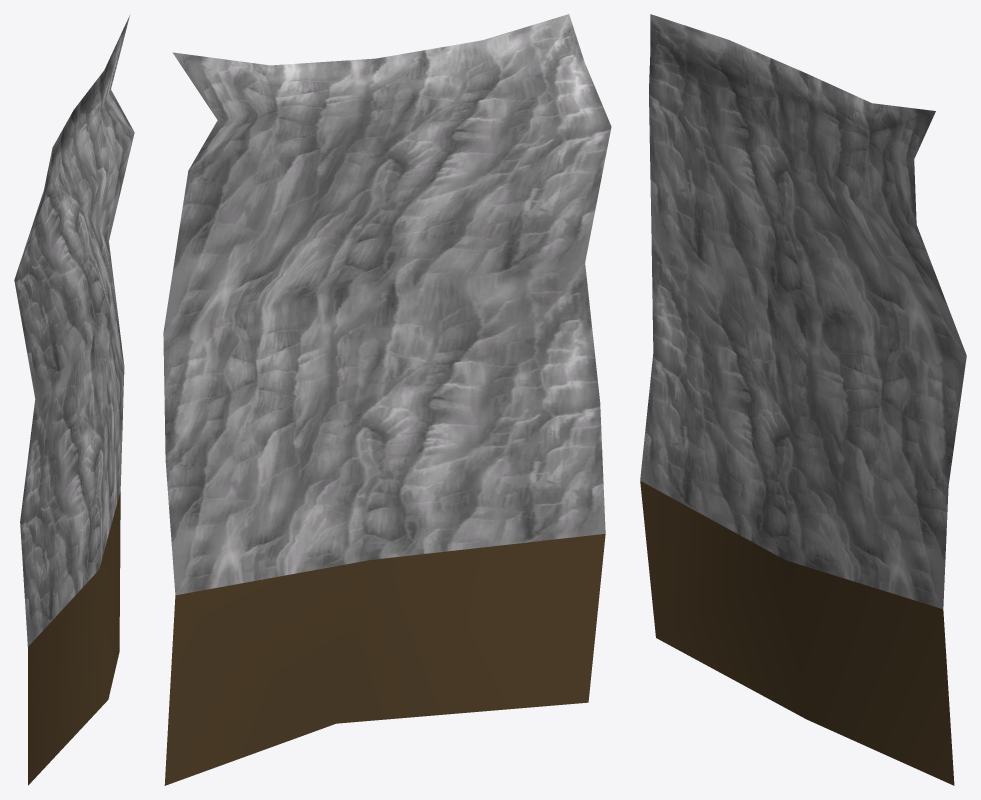
Rendered from SWORDLIGHT20_PS-AREA03_68.fbx.
3 renders of one model, left to right at view 1: azimuth 30°, elevation 25°; view 2: azimuth 150°, elevation 25°; view 3: azimuth 270°, elevation 25°, orthographic. The views are drawn at different scales.
Visible parts, largest first — view 1: SWORDLIGHT20_PS-AREA03_68; view 2: SWORDLIGHT20_PS-AREA03_68; view 3: SWORDLIGHT20_PS-AREA03_68.
Boxes of the visible parts, left/top/right/bottom form: SWORDLIGHT20_PS-AREA03_68: left=14, top=15, right=134, bottom=785; SWORDLIGHT20_PS-AREA03_68: left=163, top=14, right=611, bottom=785; SWORDLIGHT20_PS-AREA03_68: left=640, top=14, right=966, bottom=785.
Size of the model in its own units: 82041 by 199608 by 87432.
Materials: 2 (2 with a texture image).
